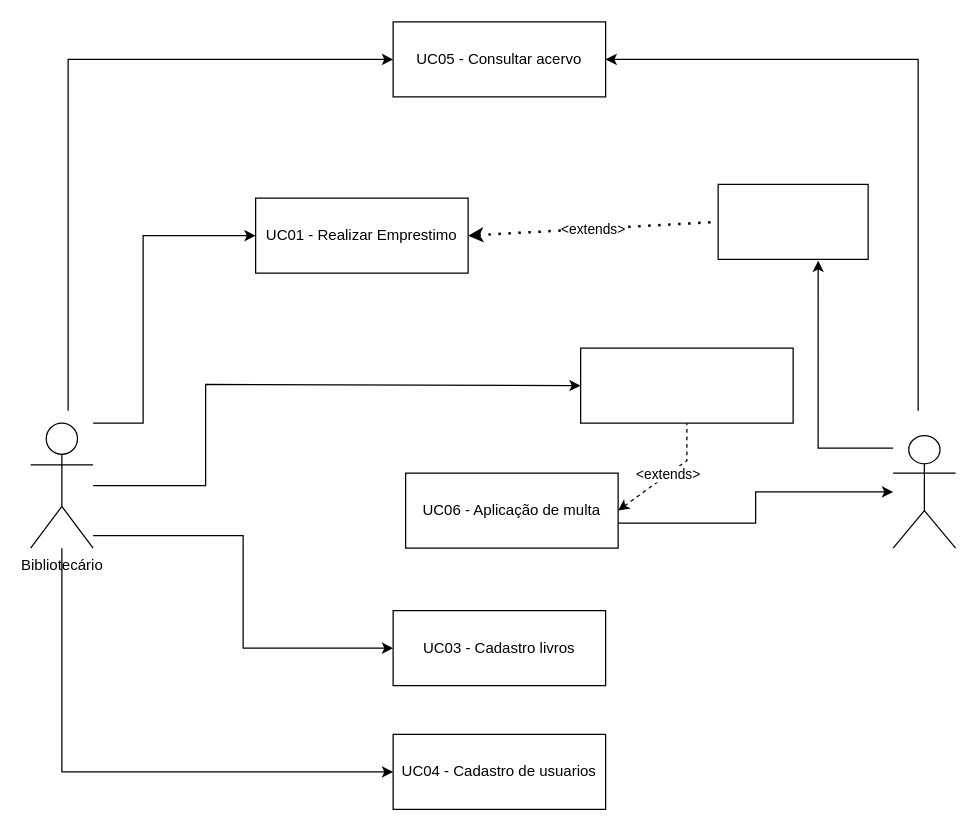
The diagram is 978 pixels wide and 831 high, and some of its shapes have lost their labels. The shapes that lost their labels are listed below. From the top down, each one's box as (x1, y1, x2, y2) in pixels, then its label:
(717, 183, 868, 259): Reservar exemplar
(579, 347, 793, 423): UC02 - Devolução
(892, 434, 956, 548): usuário
